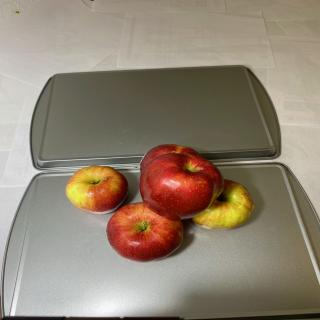Apple: (139, 152, 224, 220), (106, 202, 184, 263), (192, 179, 254, 230), (65, 165, 128, 214), (140, 144, 202, 174)
